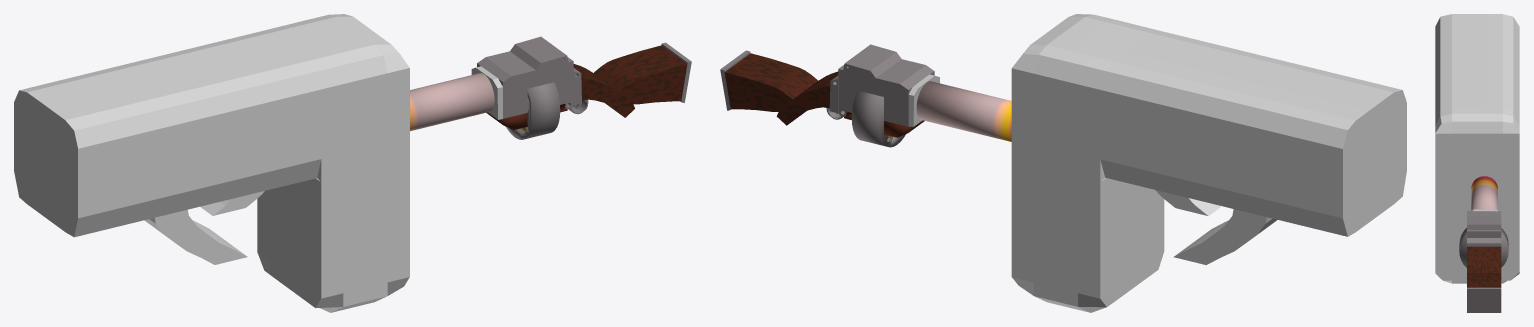
The model's file is Grenade Lawn Chair.fbx.
3 views of the same model, side by side, from view 1: azimuth 30°, elevation 25°; view 2: azimuth 150°, elevation 25°; view 3: azimuth 270°, elevation 25° (orthographic). The views are drawn at different scales.
Parts seen in each view (by area): view 1: Cube.001, Cube.004, Cube.007, Barrel, Cylinder.001, Cube.009; view 2: Cube.001, Cube.004, Cube.007, Barrel, Cylinder.001, Cube.009; view 3: Cube.001, Cube.004, Cube.007, Cube.005, Barrel, Cylinder.001, Cube.006, Cube.009.
Part boxes in pixels (bbox=[...]): Cube.001: bbox=[14, 14, 409, 312]; Cube.004: bbox=[573, 45, 687, 117]; Cube.007: bbox=[477, 36, 573, 118]; Barrel: bbox=[410, 73, 494, 131]; Cylinder.001: bbox=[506, 82, 560, 139]; Cube.009: bbox=[471, 66, 502, 119]; Cube.001: bbox=[1011, 14, 1406, 312]; Cube.004: bbox=[724, 53, 838, 125]; Cube.007: bbox=[838, 44, 934, 126]; Barrel: bbox=[916, 81, 1011, 141]; Cylinder.001: bbox=[851, 90, 905, 147]; Cube.009: bbox=[908, 74, 939, 126]; Cube.001: bbox=[1435, 14, 1519, 283]; Cube.004: bbox=[1467, 246, 1501, 287]; Cube.007: bbox=[1467, 211, 1501, 237]; Cube.005: bbox=[1467, 287, 1501, 312]; Barrel: bbox=[1471, 176, 1497, 210]; Cylinder.001: bbox=[1459, 228, 1508, 267]; Cube.006: bbox=[1467, 238, 1501, 246]; Cube.009: bbox=[1470, 209, 1498, 211].
Size of the model in its own units: 575 by 222 by 100.
